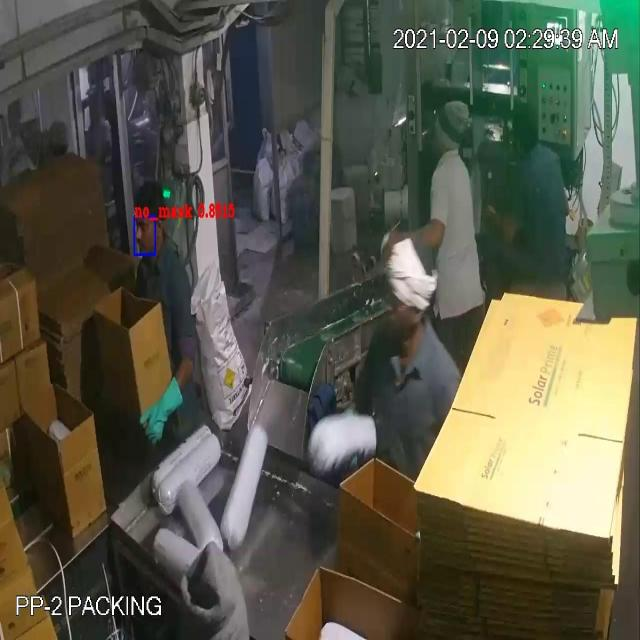gloves: (135, 362, 185, 450)
no-gloves: (376, 217, 458, 263), (467, 193, 523, 245)
